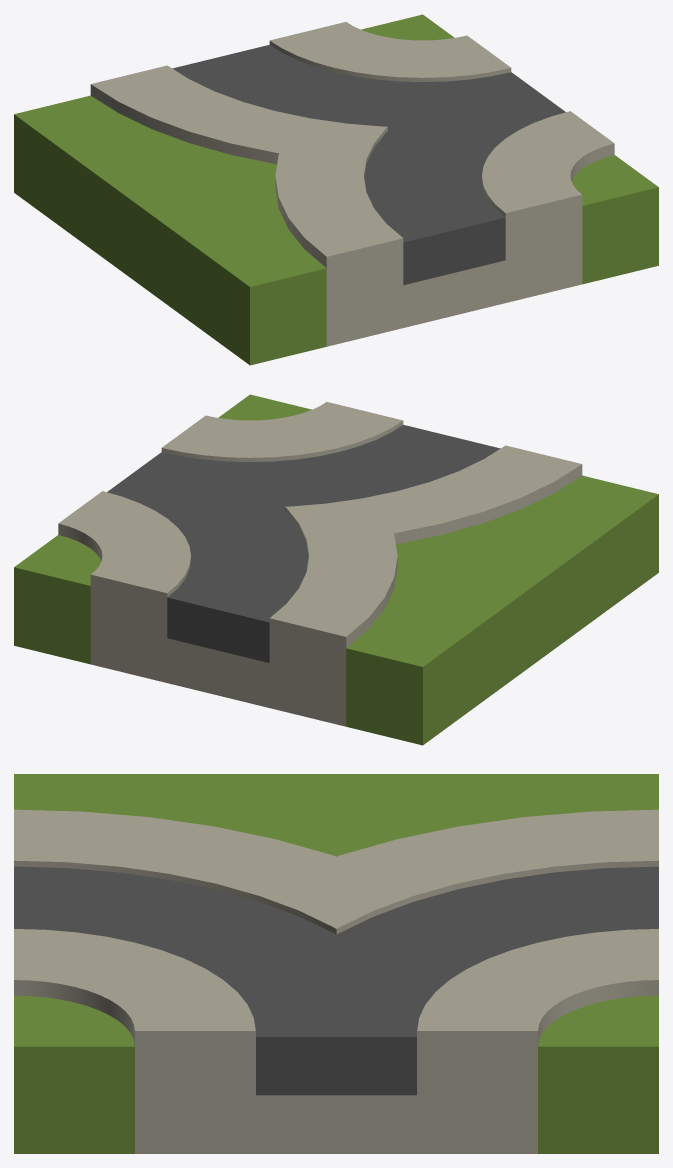
File: roadTile_148.obj
3 views of the same model, one above another, from view 1: azimuth 30°, elevation 25°; view 2: azimuth 150°, elevation 25°; view 3: azimuth 270°, elevation 25° (orthographic). The views are drawn at different scales.
Visible parts, largest first — view 1: Mesh1_Group1_Model.008; view 2: Mesh1_Group1_Model.008; view 3: Mesh1_Group1_Model.008.
Part boxes in pixels (x1,y1,x2,y2): Mesh1_Group1_Model.008: [14, 14, 658, 365]; Mesh1_Group1_Model.008: [14, 394, 658, 745]; Mesh1_Group1_Model.008: [14, 774, 658, 1153].
Bounding box in the file's own units: 3 × 0.63 × 3.
